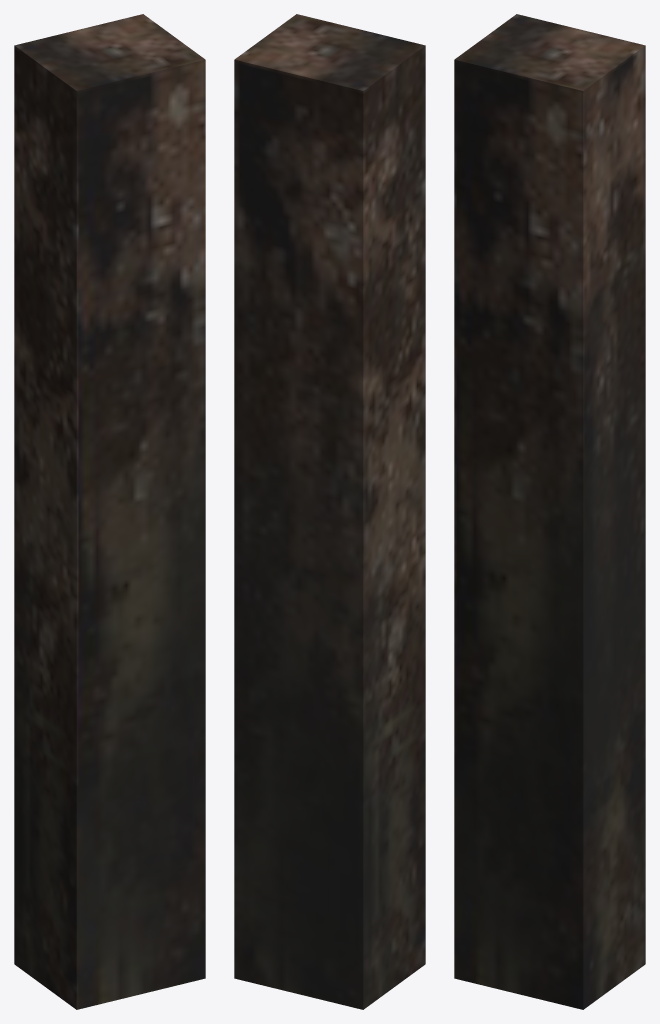
File: Pillar.FBX
3 views of the same model, side by side, from view 1: azimuth 30°, elevation 25°; view 2: azimuth 150°, elevation 25°; view 3: azimuth 330°, elevation 25° (orthographic).
Visible parts, largest first — view 1: Pillar; view 2: Pillar; view 3: Pillar.
Part boxes in pixels (left/top/right/bottom): Pillar: left=14, top=14, right=205, bottom=1009; Pillar: left=234, top=14, right=425, bottom=1009; Pillar: left=454, top=14, right=645, bottom=1009.
Size of the model in its own units: 74.69 by 509 by 62.56.
